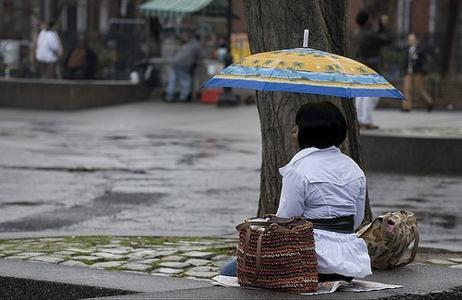person: (219, 102, 374, 283)
